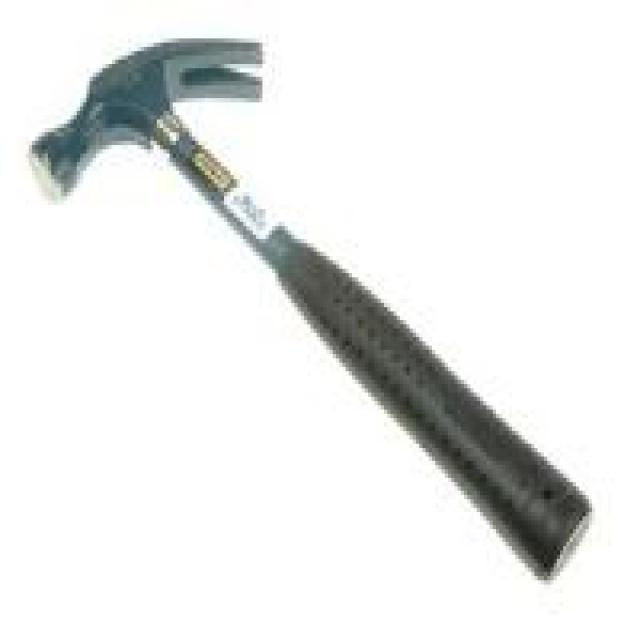hammer: (16, 21, 602, 602)
